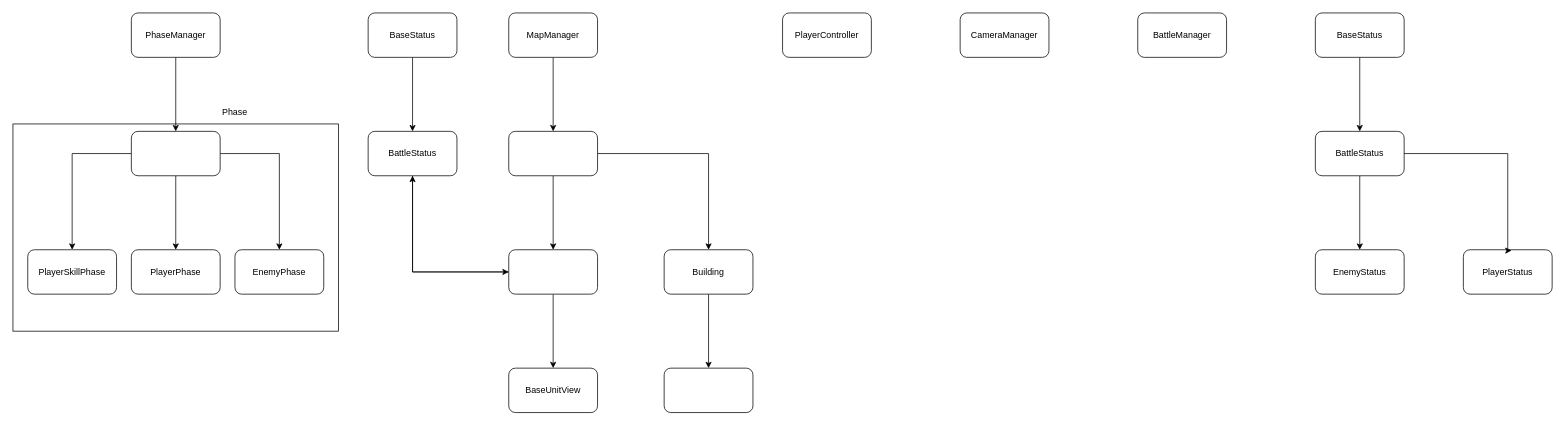
Image size: 1565x426. Some labels were removed from this diagram. Each missing label, with the centre of its shape:
"BaseUnit" belongs at [553,271].
"BuildingView" belongs at [708,390].
"IPhase" belongs at [175,153].
"IUnit" belongs at [553,153].
